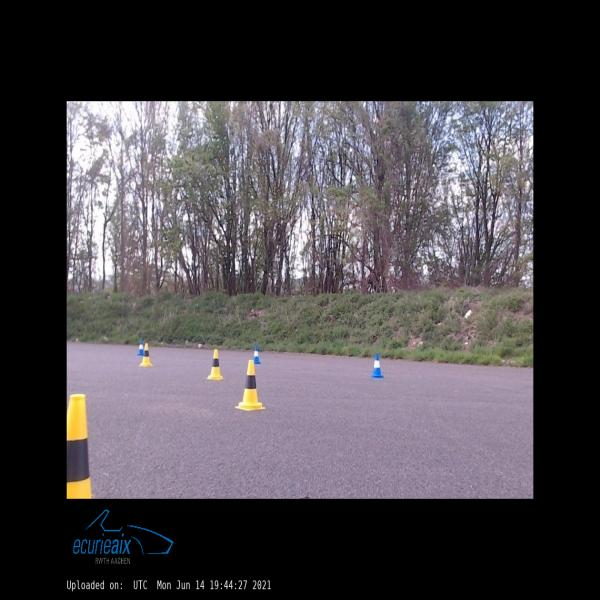blue_cone: (371, 354, 383, 378), (254, 346, 260, 364), (138, 340, 143, 355)
yellow_cone: (66, 394, 92, 498), (235, 360, 265, 411), (207, 350, 223, 379), (140, 343, 152, 366)
